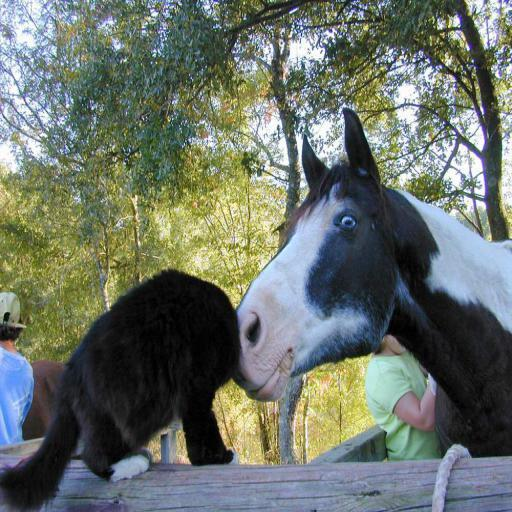horse: (232, 106, 512, 459)
